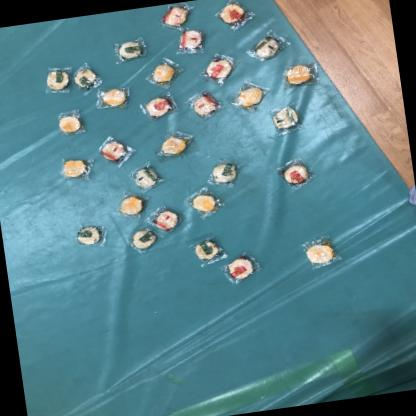green_setoshio: (242, 30, 290, 64), (201, 156, 245, 191), (66, 59, 106, 96), (119, 223, 162, 257), (124, 160, 164, 196), (265, 103, 306, 137), (190, 233, 231, 266), (110, 36, 152, 65), (72, 222, 108, 253), (39, 64, 71, 98)
red_setoshio: (196, 48, 244, 86), (208, 0, 259, 34), (219, 252, 264, 288), (273, 156, 317, 192), (182, 87, 222, 124), (93, 131, 134, 166), (172, 26, 211, 57), (158, 0, 196, 31), (138, 92, 176, 120), (148, 205, 180, 234)
yellow_setoshio: (225, 79, 273, 114), (278, 58, 323, 92), (298, 234, 340, 270), (182, 185, 224, 220), (140, 58, 184, 90), (153, 126, 194, 160), (109, 190, 150, 223), (92, 83, 136, 113), (56, 153, 94, 184), (51, 108, 88, 138)
